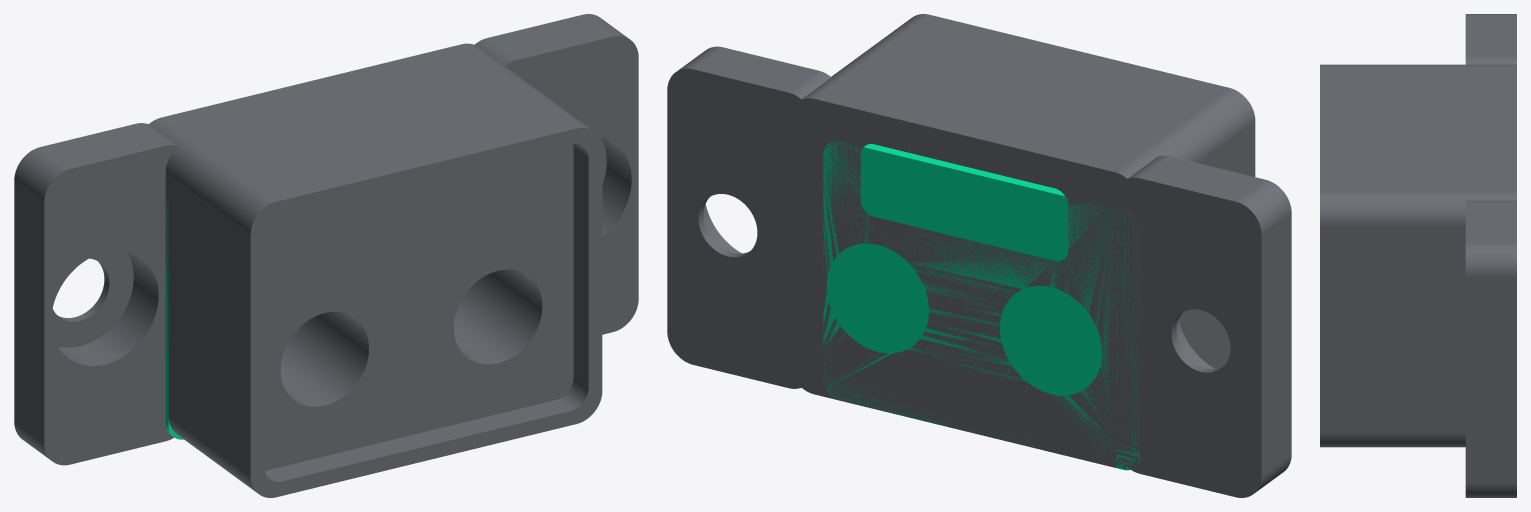
File: led-heading-mount.glb
3 views of the same model, side by side, from view 1: azimuth 30°, elevation 25°; view 2: azimuth 150°, elevation 25°; view 3: azimuth 270°, elevation 25° (orthographic). The views are drawn at different scales.
Parts seen in each view (by area): view 1: solid_000, solid_001; view 2: solid_000, solid_001; view 3: solid_000.
Part boxes in pixels (box(x1,y1,x2,y2)): solid_000: box(14, 14, 638, 497); solid_001: box(165, 201, 183, 439); solid_000: box(667, 14, 1291, 497); solid_001: box(823, 141, 1140, 470); solid_000: box(1320, 14, 1516, 497).
Size of the model in its own units: 34.3 by 16.3 by 11.5.
